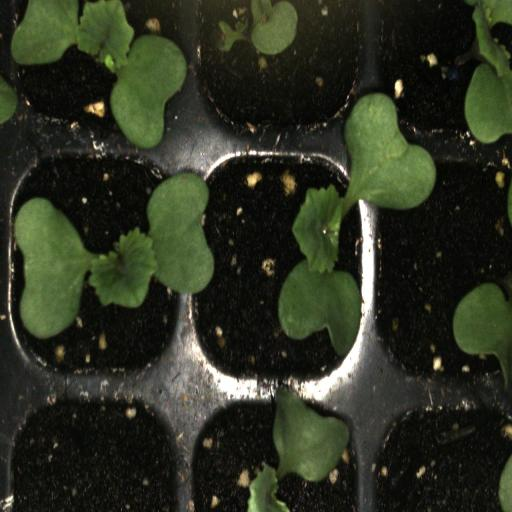Folha: (278, 92, 436, 357), (247, 386, 350, 512), (464, 0, 512, 145), (211, 0, 300, 57), (453, 283, 512, 364)
Germinacao: (183, 144, 372, 392), (6, 141, 189, 381), (7, 0, 187, 148)
